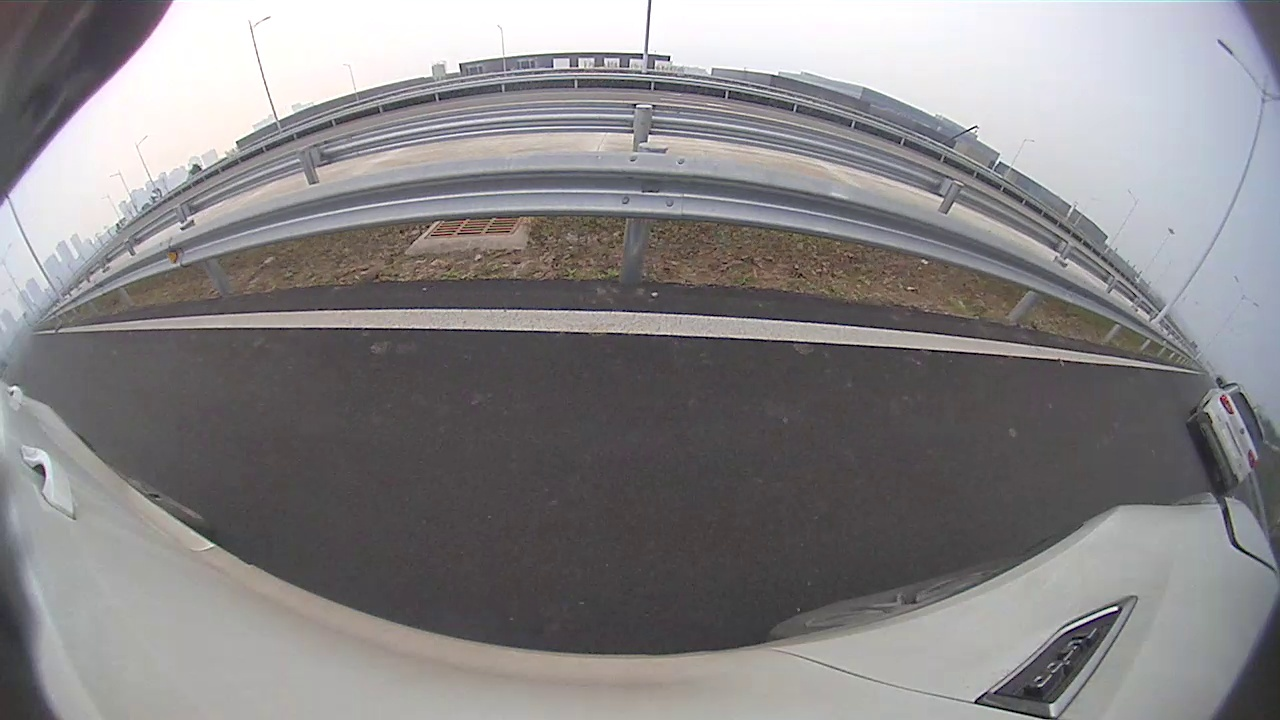car: (1185, 376, 1265, 495)
